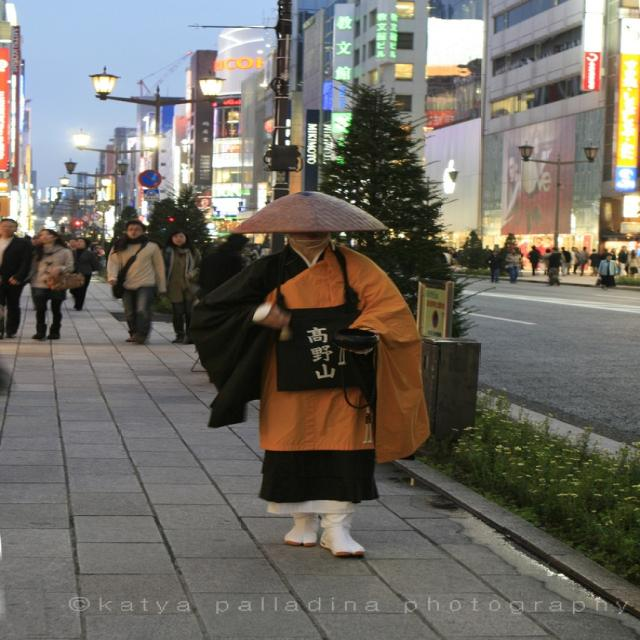body: (180, 187, 436, 563), (6, 226, 77, 342), (105, 218, 169, 344), (155, 230, 201, 346), (194, 231, 254, 304), (0, 218, 34, 340), (544, 245, 638, 277), (66, 236, 96, 312), (237, 239, 271, 265), (84, 236, 106, 276), (596, 254, 620, 287), (545, 246, 563, 287), (503, 247, 522, 284), (485, 249, 503, 284), (526, 245, 544, 277), (66, 237, 78, 252)
